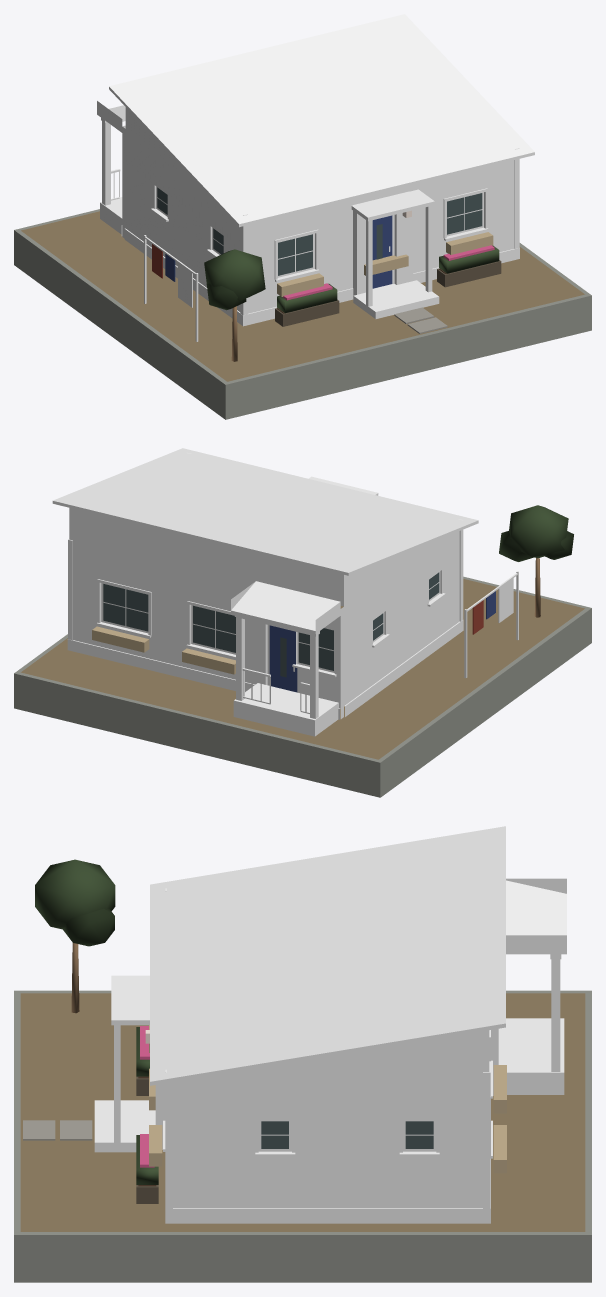
The model's file is site_hut2.fbx.
3 renders of one model, top to bottom at view 1: azimuth 30°, elevation 25°; view 2: azimuth 150°, elevation 25°; view 3: azimuth 270°, elevation 25°, orthographic. The views are drawn at different scales.
Parts seen in each view (by area): view 1: a2015.site_hut2; view 2: a2015.site_hut2; view 3: a2015.site_hut2.
Boxes of the visible parts, x1,y1,x2,y2 form: a2015.site_hut2: [14, 14, 591, 419]; a2015.site_hut2: [14, 448, 591, 797]; a2015.site_hut2: [14, 826, 591, 1282].
Size of the model in its own units: 10.4 by 5.05 by 10.4.
